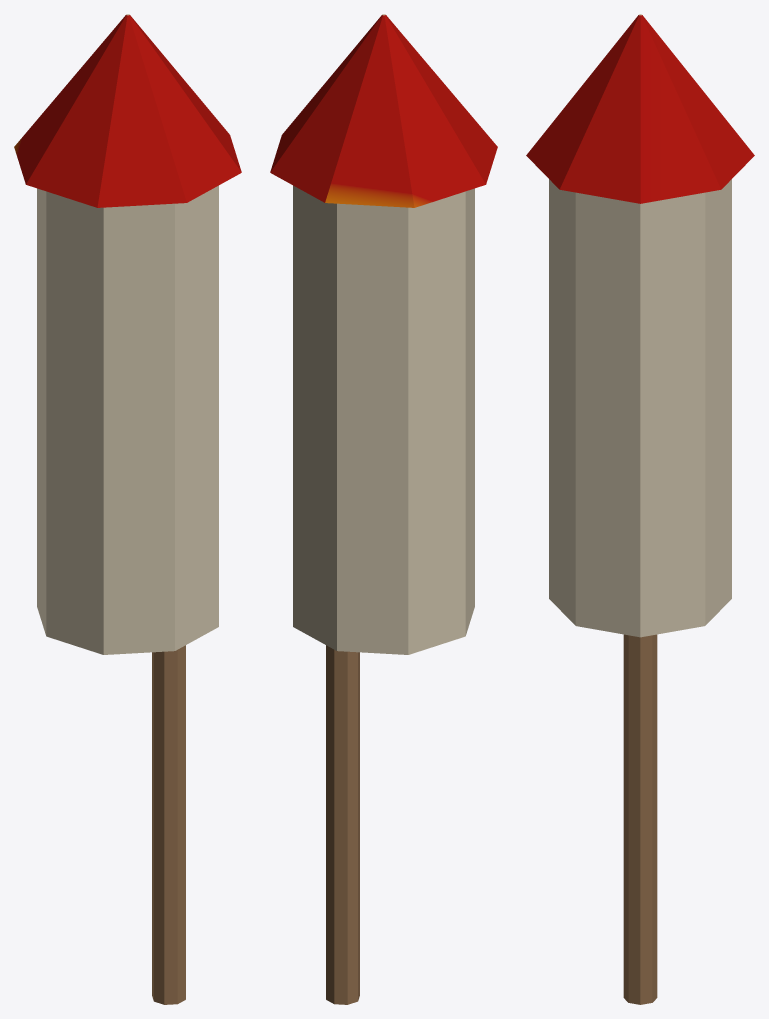
The model's file is Rocket.fbx.
3 views of the same model, side by side, from view 1: azimuth 30°, elevation 25°; view 2: azimuth 150°, elevation 25°; view 3: azimuth 270°, elevation 25° (orthographic). The views are drawn at different scales.
Parts seen in each view (by area): view 1: Cylinder; view 2: Cylinder; view 3: Cylinder.
Part boxes in pixels (box(x1,y1,x2,y2)): Cylinder: box(14, 14, 241, 1004); Cylinder: box(270, 14, 497, 1004); Cylinder: box(526, 14, 754, 1004).
Bounding box in the file's own units: 250 × 1162 × 250.
